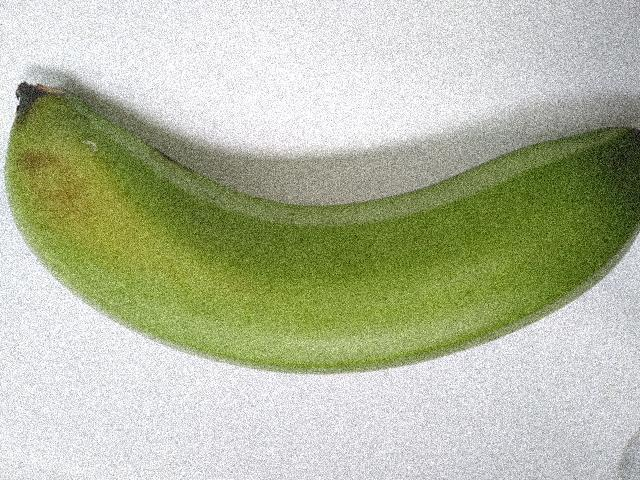freshunripe: (0, 61, 639, 391)
